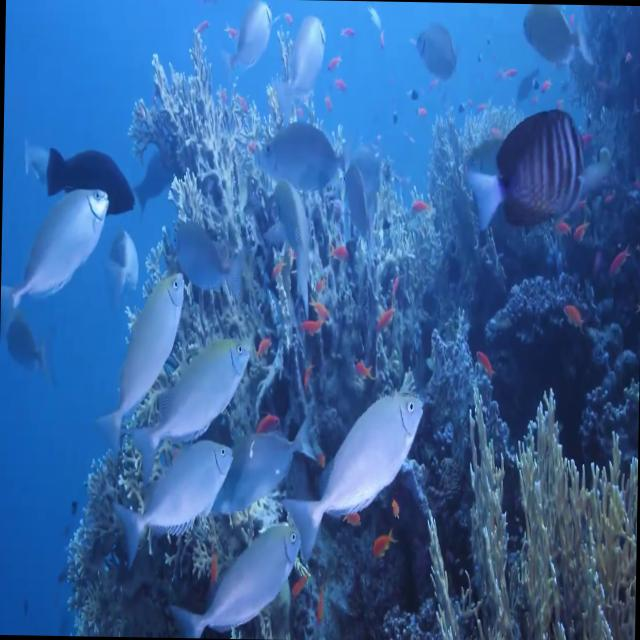fish: (286, 392, 426, 557), (472, 100, 602, 237), (96, 268, 187, 451), (132, 336, 255, 470), (0, 184, 111, 326), (169, 528, 304, 634), (116, 438, 230, 556), (211, 413, 325, 516), (256, 119, 350, 197), (43, 150, 139, 217), (276, 14, 328, 117), (218, 0, 275, 91)
